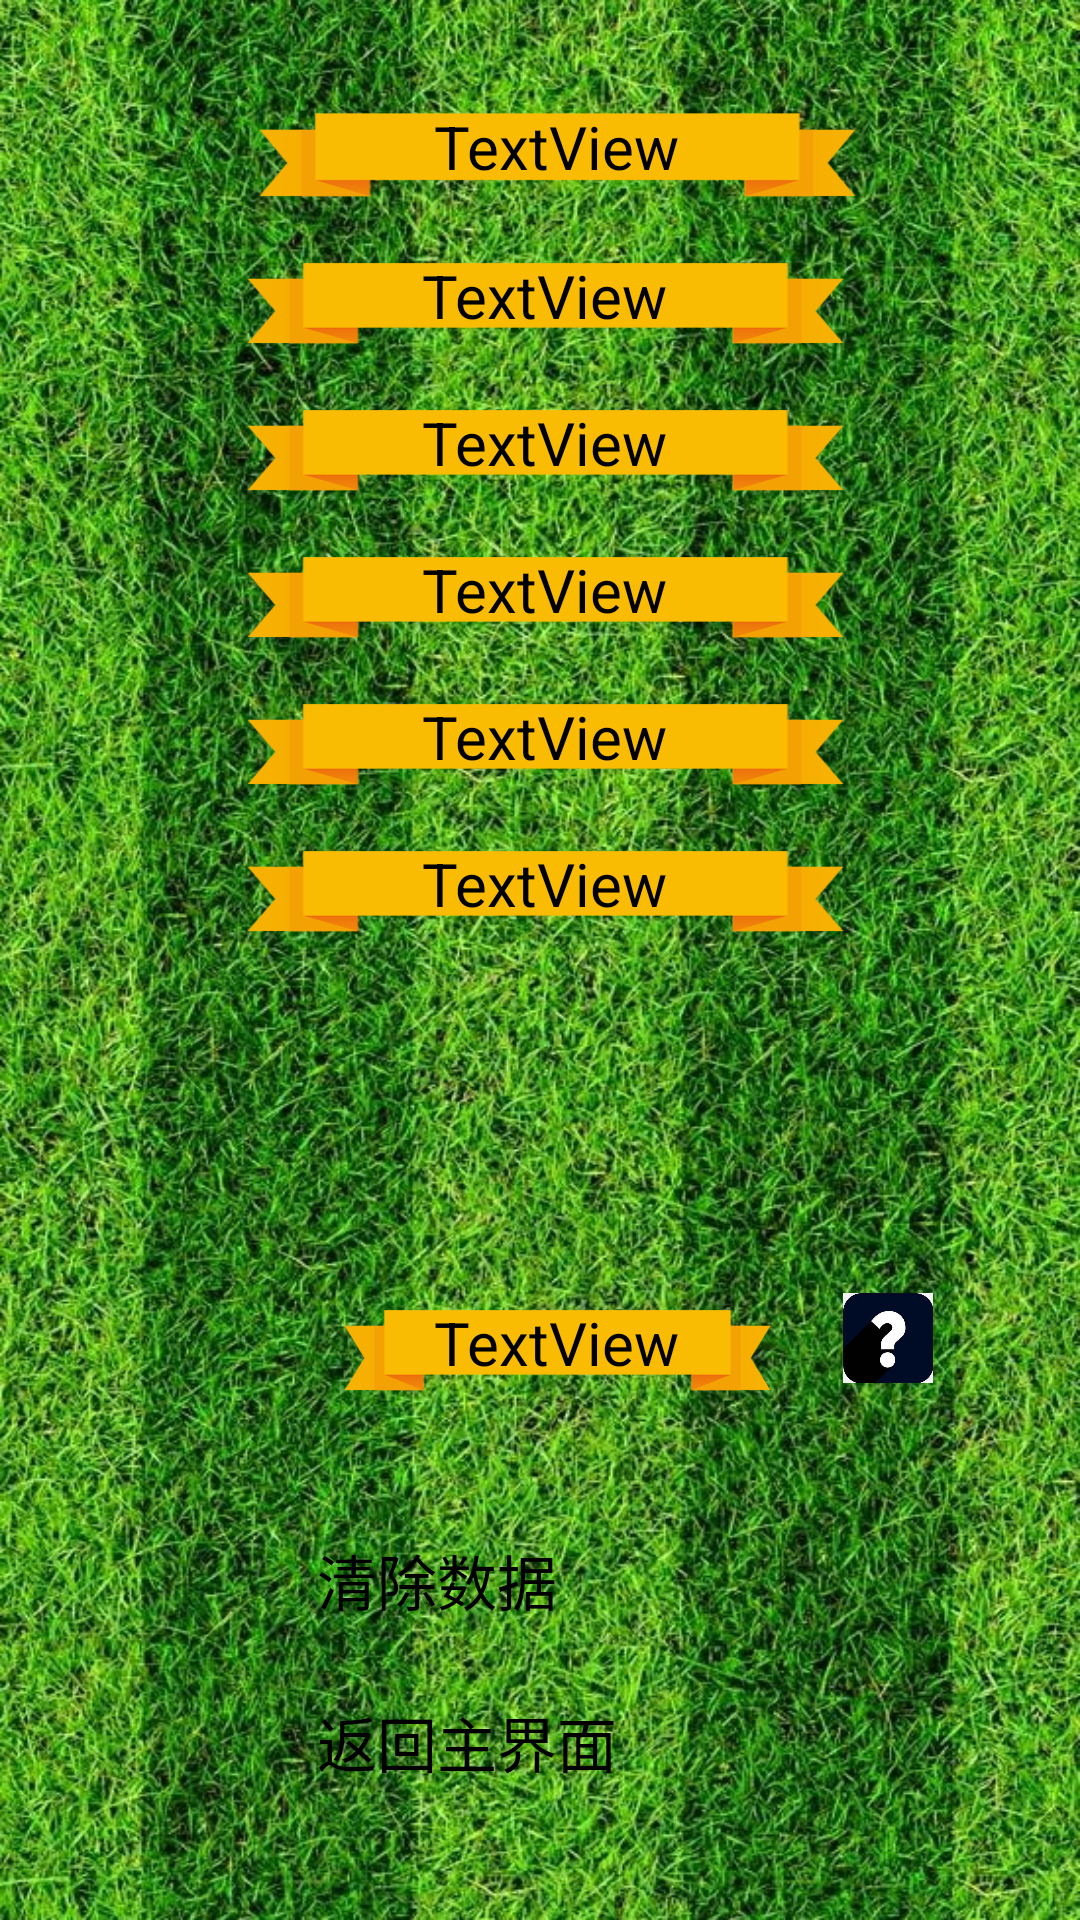

Named icons in this screenshot (1080 × 1920) and their centers, [x,y]:
tips: [888,1338]
